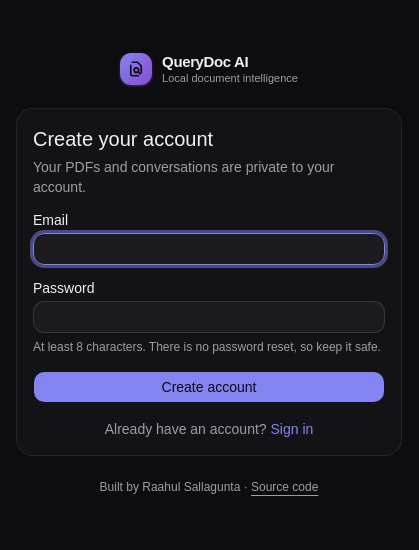
Test case: Accounts › shows the server error for wrong credentials and has no a11y violations
Expected: the heading "Create your account" is shown, [33,128,213,150]
In the field labelled "Email": x=209, y=249 [33,233,385,265], type "alice@example.com"
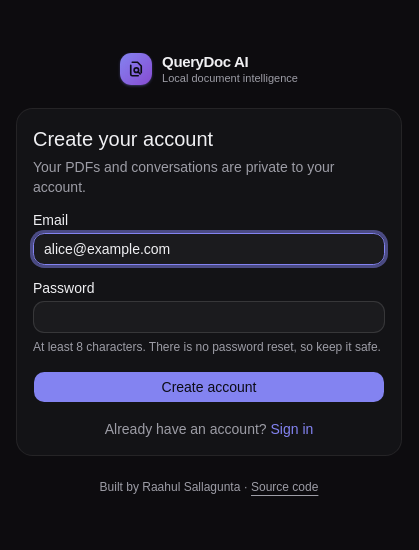
In the password field labelled "Password": x=209, y=317 [33,301,385,333], type "correct horse"
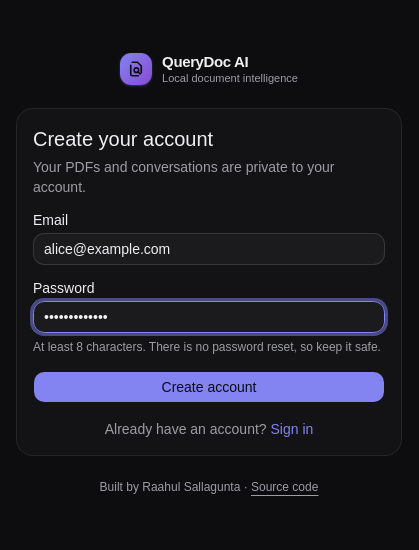
Click the button "Create account": x=209, y=387 [33,371,385,403]
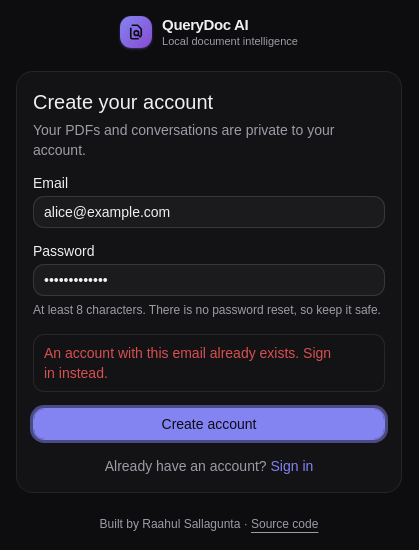
Expected: the text "An account with this email already exists. Sign in instead." is shown, [44,343,374,383]
